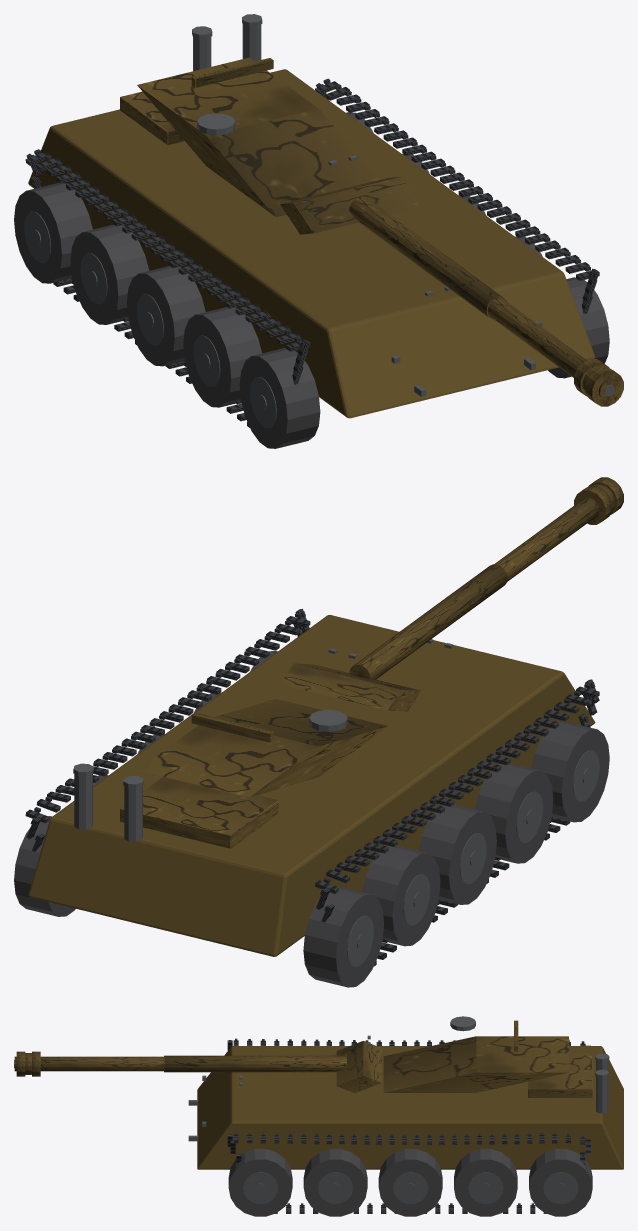
Rendered from lance_LOD0.glb.
The picture shows the model from 3 angles, top to bottom: view 1: azimuth 30°, elevation 25°; view 2: azimuth 150°, elevation 25°; view 3: azimuth 270°, elevation 25°; orthographic projection. The views are drawn at different scales.
Parts seen in each view (by area): view 1: HullMesh, Wheels_L, CasemateMesh, TrackL, TrackR, Gun_tube1, Gun_tube2, Wheels_R, Gun_brk1, exh1, exh-1; view 2: HullMesh, Wheels_L, CasemateMesh, TrackL, TrackR, Gun_tube1, Gun_tube2, Wheels_R, exh-1, exh1, Gun_brk2; view 3: HullMesh, Wheels_R, CasemateMesh, Gun_tube1, TrackR, Gun_tube2, TrackL, exh1.
Part boxes in pixels (x1,y1,x2,y2): HullMesh: (28,69,595,418); Wheels_L: (14,183,320,448); CasemateMesh: (137,57,420,234); TrackL: (25,149,310,427); TrackR: (315,78,599,314); Gun_tube1: (349,196,506,319); Gun_tube2: (487,298,618,400); Wheels_R: (346,112,609,378); Gun_brk1: (585,367,623,406); exh1: (242,24,261,61); exh-1: (193,37,211,71); HullMesh: (28,615,595,956); Wheels_L: (303,721,609,987); CasemateMesh: (137,648,420,797); TrackL: (315,679,599,966); TrackR: (25,608,310,851); Gun_tube1: (349,564,507,679); Gun_tube2: (494,497,599,581); Wheels_R: (14,651,277,916); exh-1: (124,786,142,841); exh1: (74,774,92,829); Gun_brk2: (574,486,612,524); HullMesh: (188,1046,623,1169); Wheels_R: (228,1149,592,1216); CasemateMesh: (336,1016,568,1093); Gun_tube1: (164,1055,346,1072); TrackR: (227,1132,590,1213); Gun_tube2: (14,1056,163,1071); TrackL: (227,1038,590,1050); exh1: (596,1076,608,1113).
Size of the model in its own units: 3.91 by 2.26 by 9.55.
Materials: 5 (3 with a texture image).
